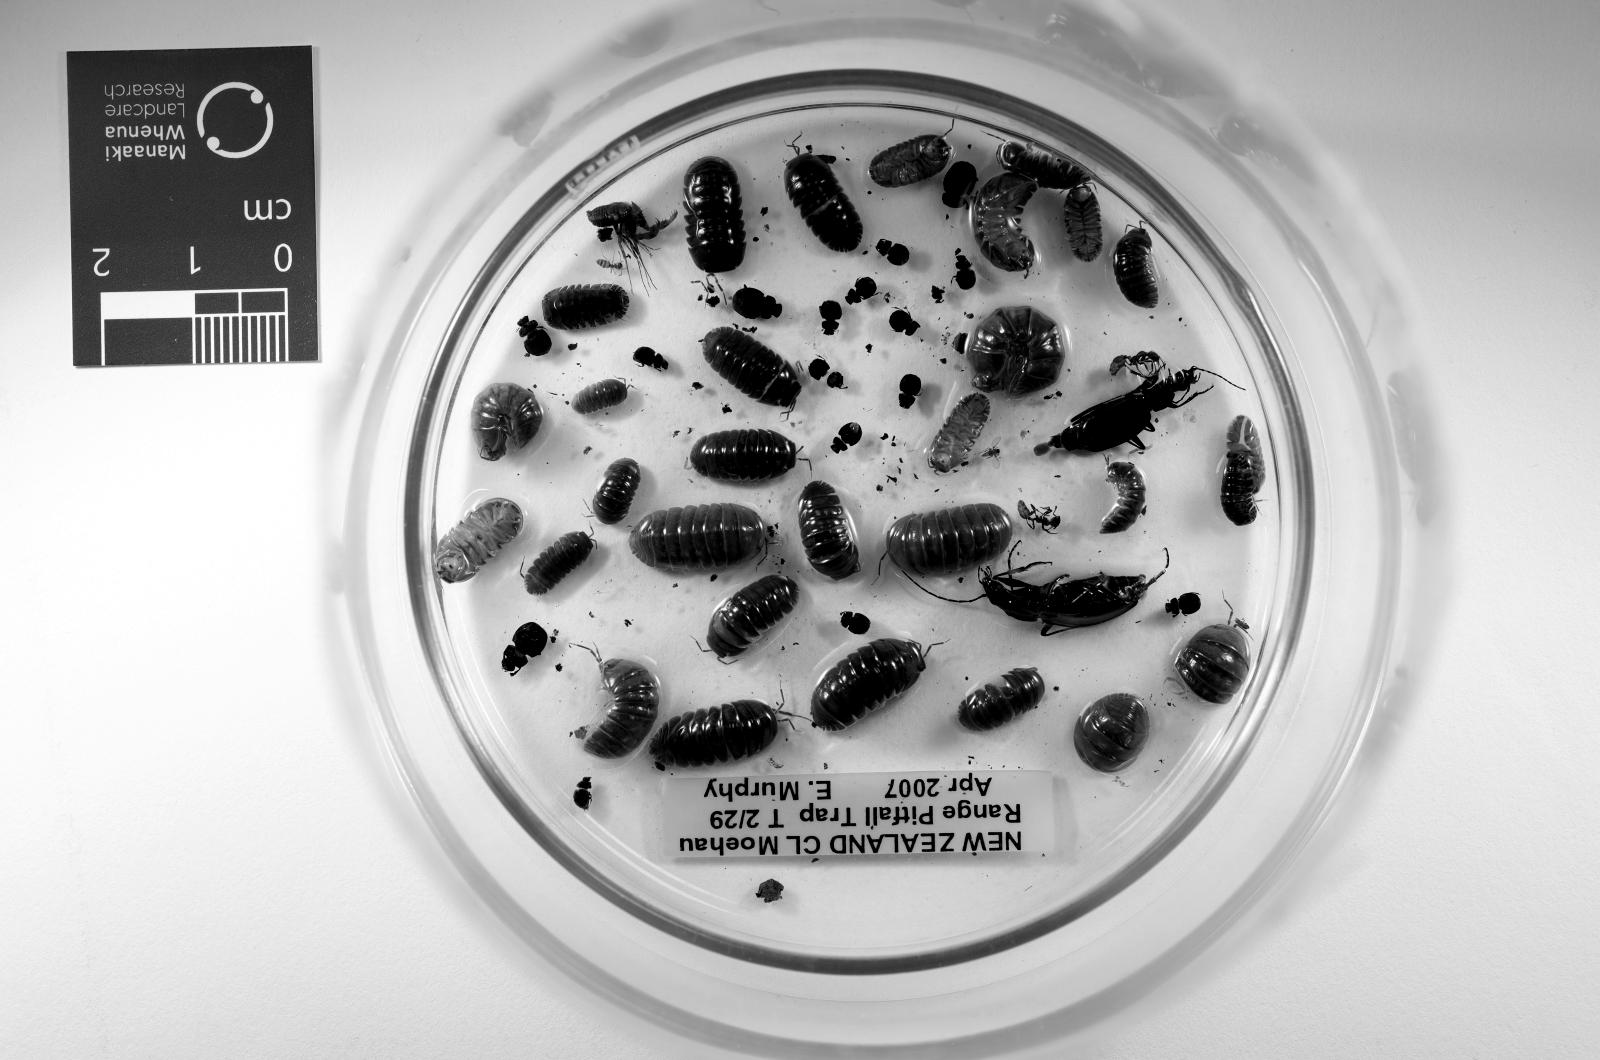carabidae: (1035, 367, 1210, 457), (978, 562, 1157, 636)
coleoptera: (503, 621, 550, 674), (731, 286, 782, 319), (944, 161, 978, 208), (519, 317, 553, 357), (875, 239, 909, 267), (831, 422, 862, 453), (896, 373, 922, 407), (847, 277, 879, 304), (818, 302, 843, 336), (1166, 593, 1200, 618), (887, 310, 919, 336), (953, 252, 974, 289), (634, 348, 669, 369), (841, 612, 872, 634), (572, 776, 590, 810)
diptera: (976, 434, 1004, 472)
formicidae: (1109, 351, 1166, 382), (1018, 500, 1062, 535)
isopoda: (812, 640, 925, 730), (628, 503, 765, 571), (887, 503, 1012, 575), (966, 308, 1065, 397), (650, 699, 778, 767), (784, 149, 862, 252), (706, 575, 799, 658), (704, 327, 799, 407), (584, 655, 660, 757), (685, 159, 747, 273), (438, 500, 522, 584), (969, 170, 1037, 270), (797, 481, 860, 581), (1075, 692, 1149, 774), (1175, 625, 1250, 705), (957, 667, 1044, 733), (691, 428, 797, 481), (472, 382, 544, 459), (928, 394, 991, 472), (1222, 416, 1265, 525), (522, 531, 594, 596), (997, 143, 1090, 189), (869, 134, 950, 187), (544, 283, 628, 329), (1113, 227, 1159, 308), (1100, 463, 1147, 535), (590, 459, 641, 525), (1062, 183, 1103, 260), (572, 379, 628, 413)
opiliones: (588, 202, 675, 260)
